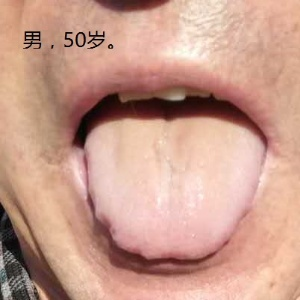st: (84, 125, 273, 266)
